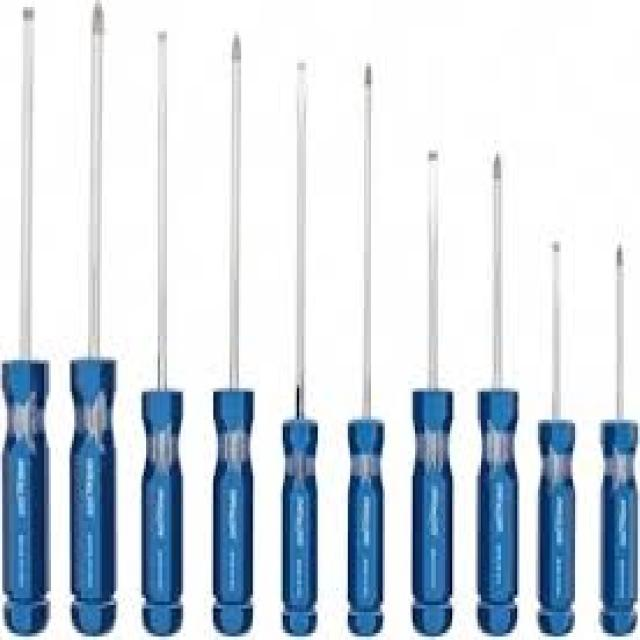screw driver: (267, 38, 341, 624), (67, 0, 139, 553), (336, 49, 401, 640), (467, 136, 535, 608), (6, 0, 66, 510), (401, 115, 463, 607), (139, 17, 188, 600), (211, 16, 259, 602), (526, 225, 589, 598), (594, 225, 640, 612)
